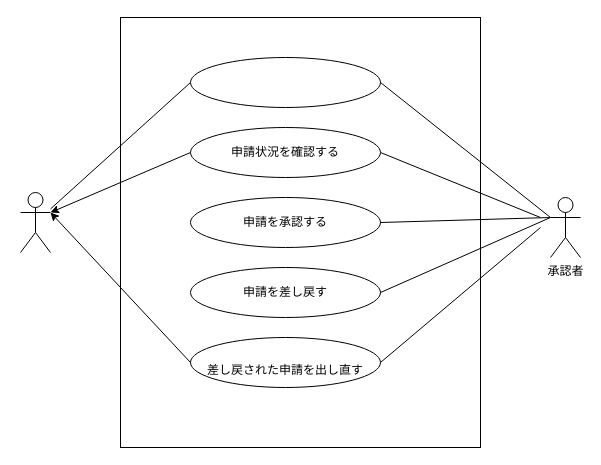
The diagram is 601 pixels wide and 465 high, and some of its shapes have lost their labels. The centre of each missing label's shape, as x and y in pixels:
申請者: the point at 35,222
経費を申請する: the point at 285,82
